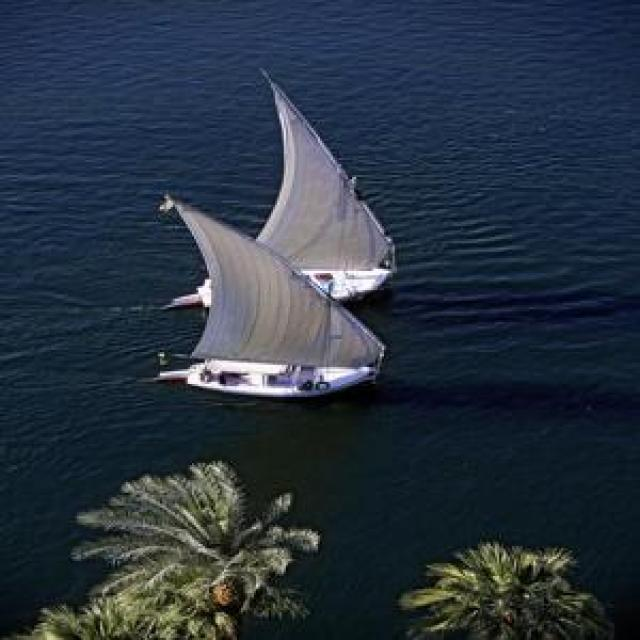sailboat: (157, 191, 381, 401), (197, 66, 389, 305)
